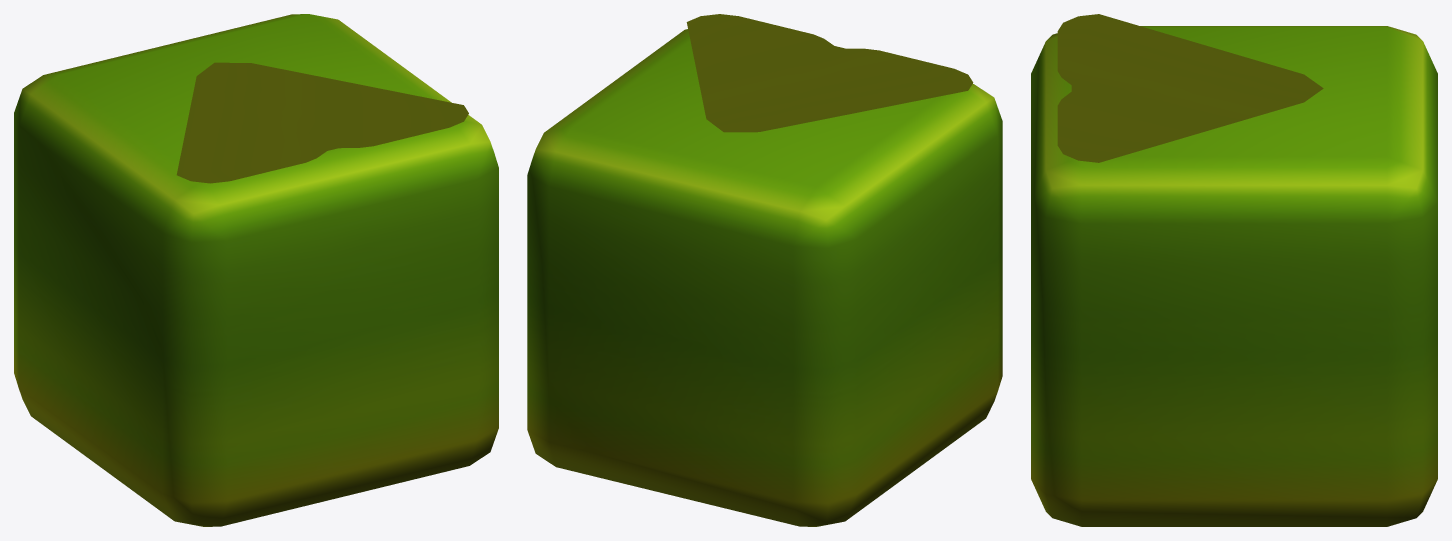
The model's file is block_wood_1_0.fbx.
3 views of the same model, side by side, from view 1: azimuth 30°, elevation 25°; view 2: azimuth 150°, elevation 25°; view 3: azimuth 270°, elevation 25° (orthographic). The views are drawn at different scales.
Visible parts, largest first — view 1: block_tree_1; view 2: block_tree_1; view 3: block_tree_1.
Part boxes in pixels (x1,y1,x2,y2): block_tree_1: (14, 14, 498, 526); block_tree_1: (527, 14, 1002, 526); block_tree_1: (1031, 14, 1437, 526).
Size of the model in its own units: 200 by 202 by 200.
